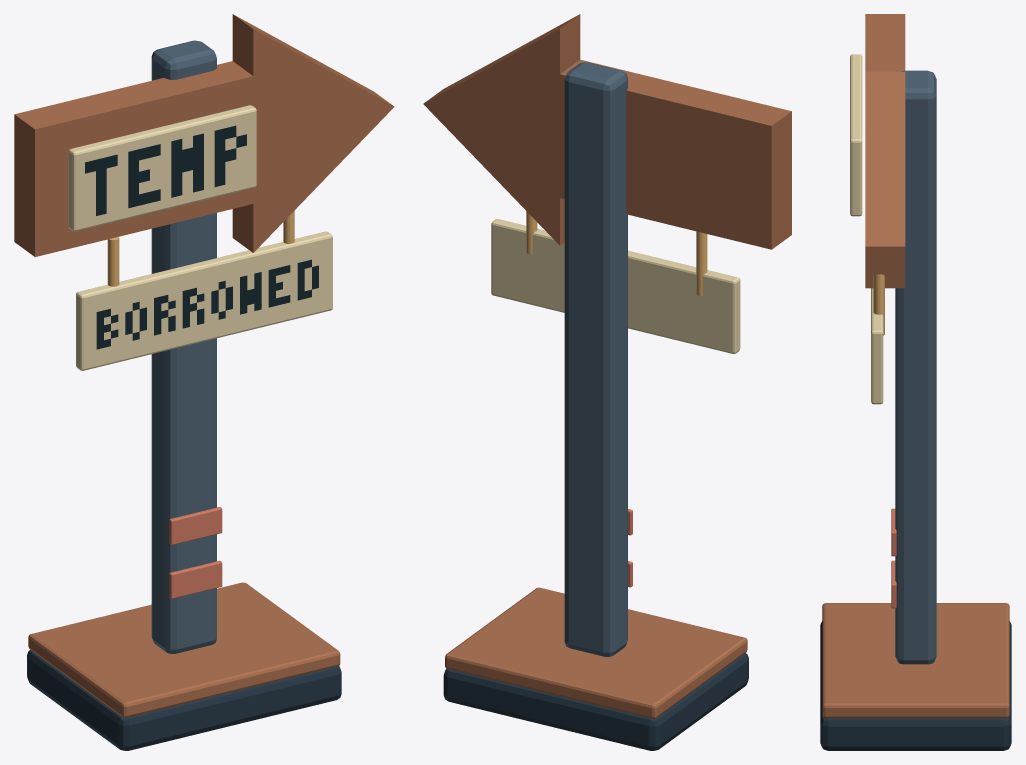
3 views of the same model, side by side, from view 1: azimuth 30°, elevation 25°; view 2: azimuth 150°, elevation 25°; view 3: azimuth 270°, elevation 25° (orthographic). The views are drawn at different scales.
Visible parts, largest first — view 1: PR110 enamel and hardware; view 2: PR110 enamel and hardware; view 3: PR110 enamel and hardware.
Boxes of the visible parts, x1,y1,x2,y2 form: PR110 enamel and hardware: (14,14,394,750); PR110 enamel and hardware: (423,14,791,750); PR110 enamel and hardware: (820,14,1011,750).
Size of the model in its own units: 0.8 by 1.43 by 0.381.
